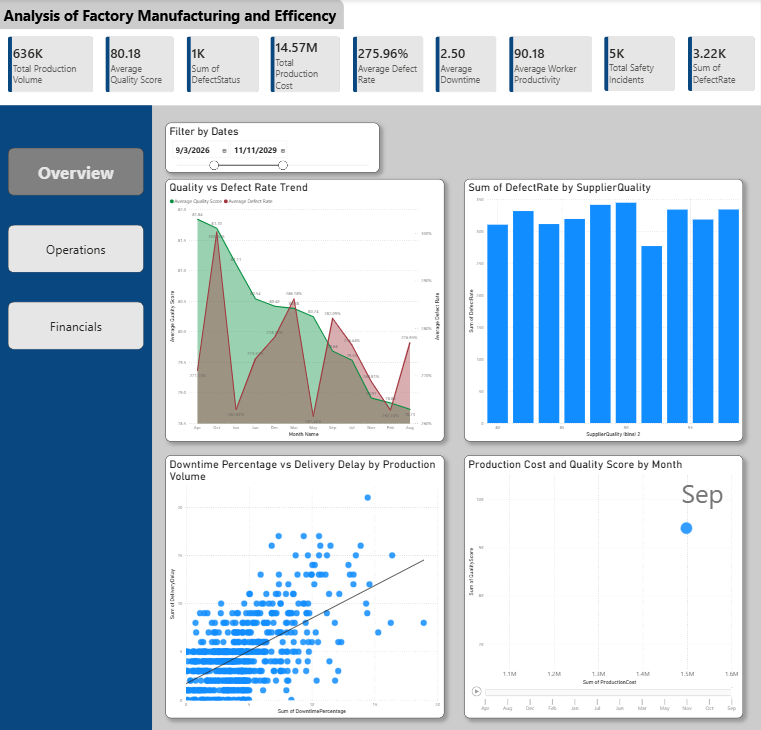

The page's visual inventory and layout, read from the dashboard file:
{"tool":"powerbi","page":{"name":"Overview","canvas":[2080,2000],"ordinal":0},"visuals":[{"type":"shape","title":"Factory Manufacturing Defects","box":[0,0,2080,290],"z":0},{"type":"cardVisual","fields":{"Data":["_Measure.Total Production Volume"]},"box":[10,83.7,266.7,186.7],"z":1000},{"type":"cardVisual","fields":{"Data":["_Measure.Average Defect Rate"]},"box":[950,83.7,226.7,186.7],"z":2000},{"type":"cardVisual","fields":{"Data":["_Measure.Average Downtime"]},"box":[1176.7,83.7,200,186.7],"z":3000},{"type":"cardVisual","fields":{"Data":["_Measure.Average Quality Score"]},"box":[276.7,83.7,220,186.7],"z":4000},{"type":"cardVisual","fields":{"Data":["_Measure.Average Worker Productivity"]},"box":[1376.7,83.7,260,186.7],"z":5000},{"type":"cardVisual","fields":{"Data":["Sum(Fact_Manufacturing.DefectRate)"]},"box":[1863.3,83.7,216.7,183.3],"z":6000},{"type":"cardVisual","fields":{"Data":["Sum(Fact_Manufacturing.DefectStatus)"]},"box":[496.7,83.7,230,186.7],"z":7000},{"type":"cardVisual","fields":{"Data":["_Measure.Total Production Cost"]},"box":[726.7,83.7,223.3,186.7],"z":8000},{"type":"cardVisual","fields":{"Data":["_Measure.Total Safety Incidents"]},"box":[1636.7,83.7,226.7,183.3],"z":9000},{"type":"areaChart","title":"Quality vs Defect Rate Trend","fields":{"Y":["_Measure.Average Quality Score"],"Y2":["_Measure.Average Defect Rate"],"Category":["DateTable.Month Name"]},"box":[455.3,489.8,760,716],"z":10000},{"type":"shape","box":[0,290,420,1710],"z":11000},{"type":"clusteredColumnChart","title":"Sum of DefectRate by SupplierQuality ","fields":{"Category":["Fact_Manufacturing.SupplierQuality (bins) 2"],"Y":["Sum(Fact_Manufacturing.DefectRate)"]},"box":[1270,490,760,715],"z":12000},{"type":"slicer","title":"Filter by Dates","fields":{"Values":["DateTable.Date"]},"box":[456.7,337.4,582.8,136.3],"z":13000},{"type":"pageNavigator","box":[26.7,406.7,370,550],"z":14000},{"type":"shape","box":[0,0,943.3,83.3],"z":15000},{"type":"scatterChart","title":"Downtime Percentage vs Delivery Delay by Production Volume","fields":{"X":["Sum(Fact_Manufacturing.DowntimePercentage)"],"Y":["Sum(Fact_Manufacturing.DeliveryDelay)"],"Category":["Fact_Manufacturing.ProductionVolume"]},"box":[456.7,1243.3,760,716.7],"z":16000},{"type":"scatterChart","title":"Production Cost and Quality Score by Month","fields":{"X":["Sum(Fact_Manufacturing.ProductionCost)"],"Y":["Sum(Fact_Manufacturing.QualityScore)"],"Play":["DateTable.Month Name"]},"box":[1270,1243.3,760,716.7],"z":17000}]}

Visuals, with their boxes in screenshot pixels (x1, y1, x2, y2), scaled from the page's 2080x2000 canvas onto the 761x730 screenshot:
"Factory Manufacturing Defects" shape: (x1=0, y1=0, x2=760, y2=106)
cardVisual - _Measure.Total Production Volume: (x1=4, y1=31, x2=101, y2=99)
cardVisual - _Measure.Average Defect Rate: (x1=348, y1=31, x2=431, y2=99)
cardVisual - _Measure.Average Downtime: (x1=431, y1=31, x2=504, y2=99)
cardVisual - _Measure.Average Quality Score: (x1=101, y1=31, x2=182, y2=99)
cardVisual - _Measure.Average Worker Productivity: (x1=504, y1=31, x2=599, y2=99)
cardVisual - Sum(Fact_Manufacturing.DefectRate): (x1=682, y1=31, x2=760, y2=97)
cardVisual - Sum(Fact_Manufacturing.DefectStatus): (x1=182, y1=31, x2=266, y2=99)
cardVisual - _Measure.Total Production Cost: (x1=266, y1=31, x2=348, y2=99)
cardVisual - _Measure.Total Safety Incidents: (x1=599, y1=31, x2=682, y2=97)
"Quality vs Defect Rate Trend" areaChart: (x1=167, y1=179, x2=445, y2=440)
shape: (x1=0, y1=106, x2=154, y2=729)
"Sum of DefectRate by SupplierQuality " clusteredColumnChart: (x1=465, y1=179, x2=743, y2=440)
"Filter by Dates" slicer: (x1=167, y1=123, x2=380, y2=173)
pageNavigator: (x1=10, y1=148, x2=145, y2=349)
shape: (x1=0, y1=0, x2=345, y2=30)
"Downtime Percentage vs Delivery Delay by Production Volume" scatterChart: (x1=167, y1=454, x2=445, y2=715)
"Production Cost and Quality Score by Month" scatterChart: (x1=465, y1=454, x2=743, y2=715)
